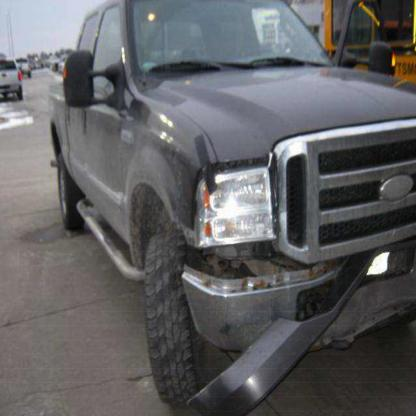Car: (0, 60, 22, 100), (17, 57, 32, 79)
Truck: (48, 0, 415, 415)
